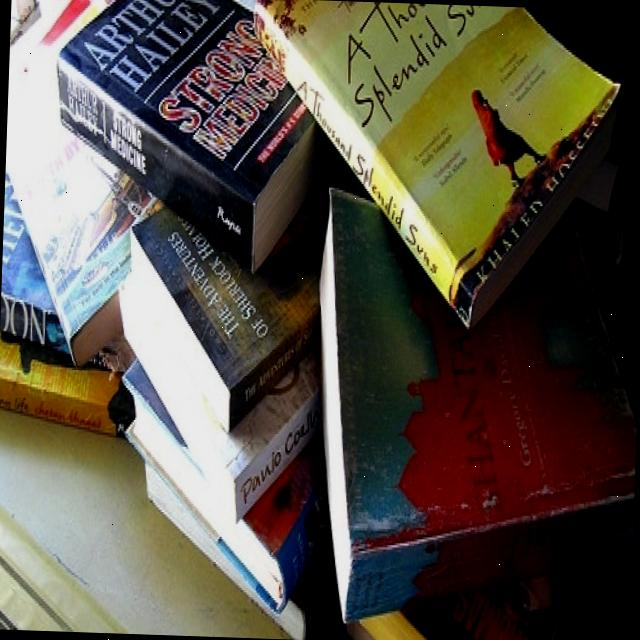book: (334, 198, 633, 542), (61, 68, 252, 268)
